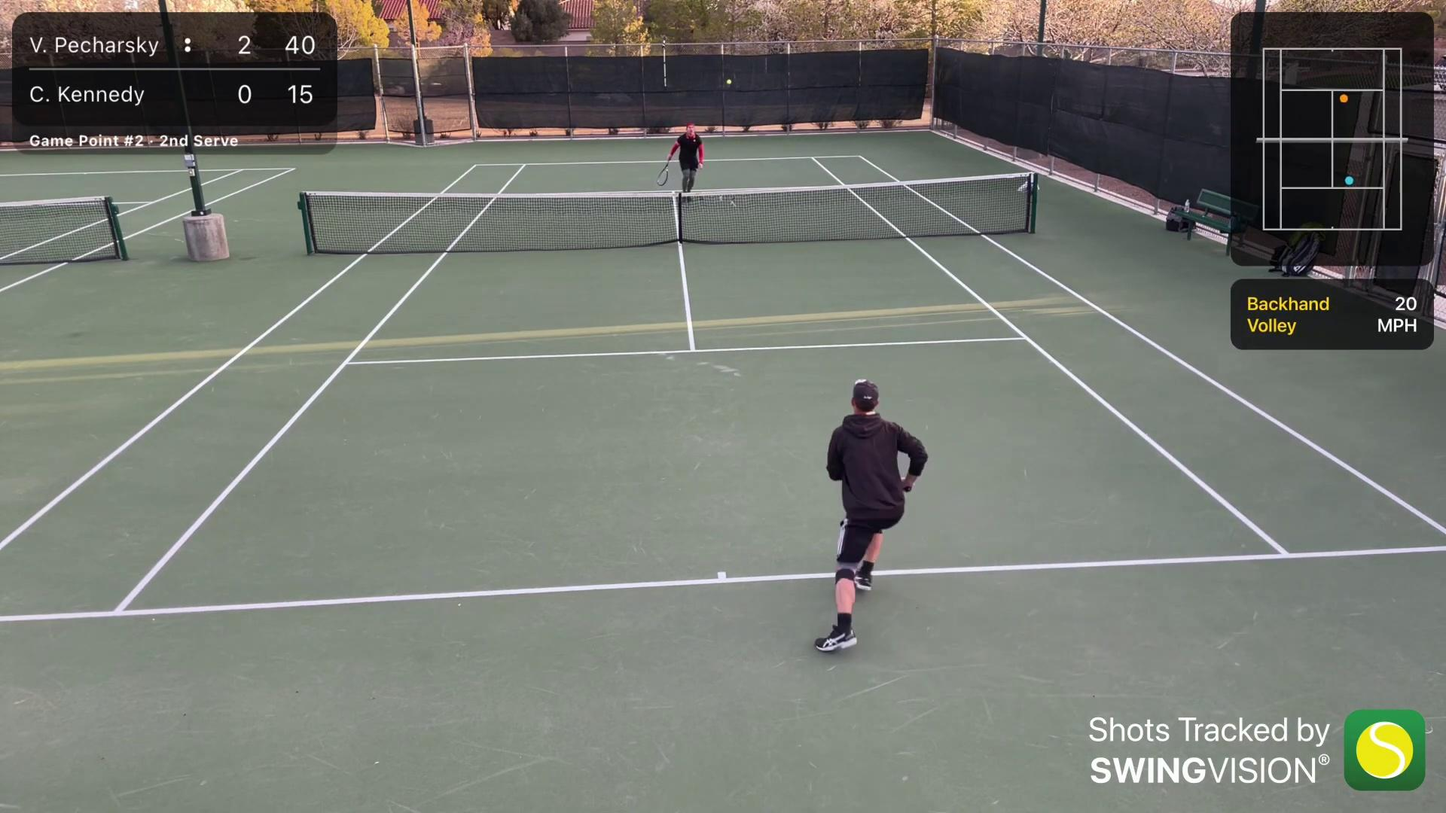ball: (726, 78, 732, 85)
